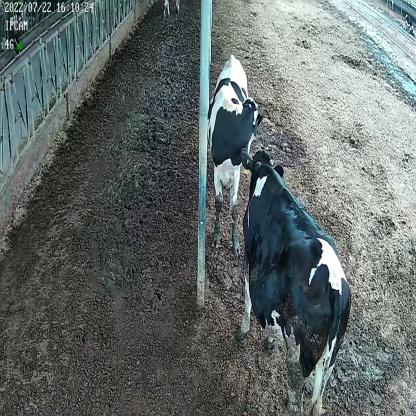cow: (235, 144, 352, 416), (207, 45, 263, 253)
